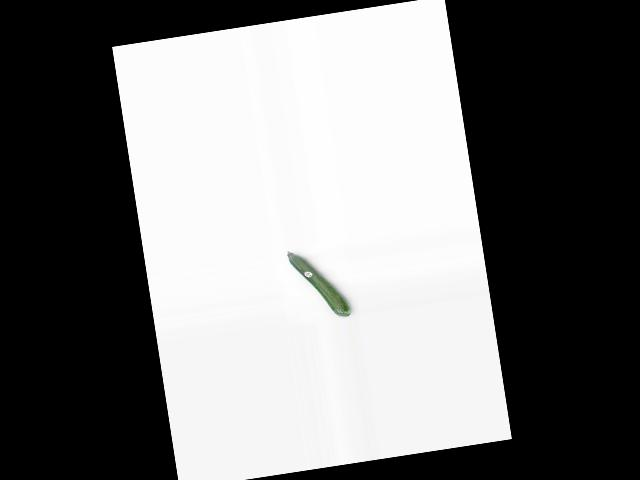cucumber: (286, 242, 351, 323)
